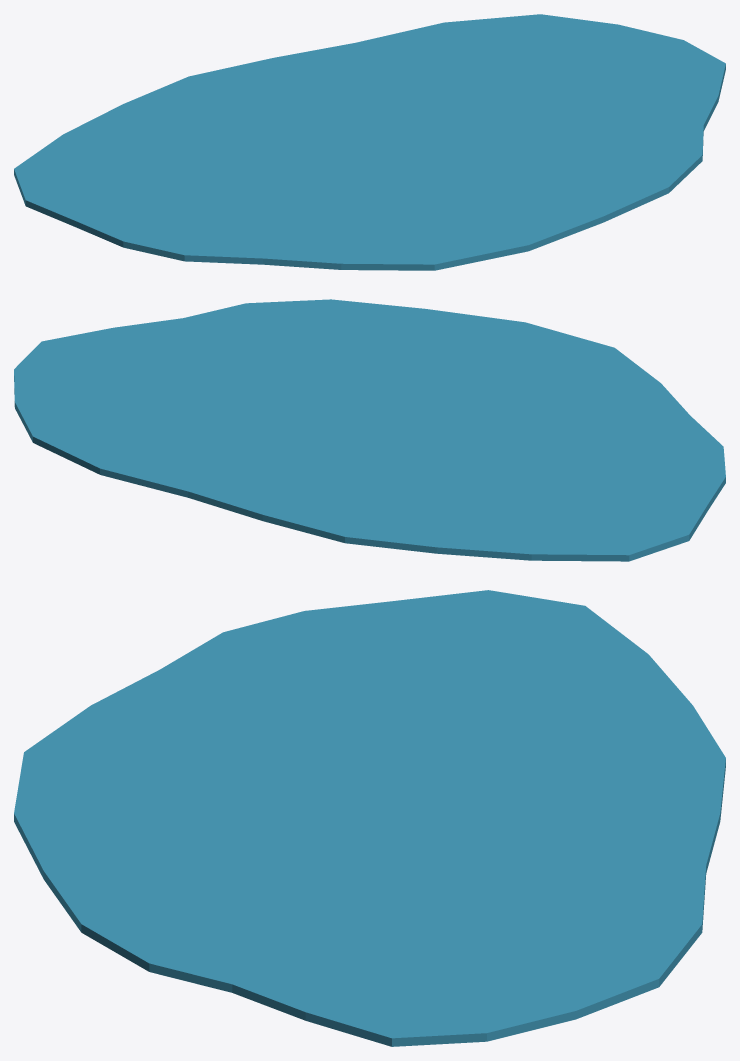
3 views of the same model, one above another, from view 1: azimuth 30°, elevation 25°; view 2: azimuth 150°, elevation 25°; view 3: azimuth 270°, elevation 25° (orthographic). The views are drawn at different scales.
Parts seen in each view (by area): view 1: 水潭_深水纸层.001; view 2: 水潭_深水纸层.001; view 3: 水潭_深水纸层.001.
Part boxes in pixels (box(x1,y1,x2,y2)): 水潭_深水纸层.001: box(14, 14, 725, 270); 水潭_深水纸层.001: box(14, 299, 725, 561); 水潭_深水纸层.001: box(14, 590, 725, 1046).
Bounding box in the file's own units: 1.68 × 0.015 × 1.13.
